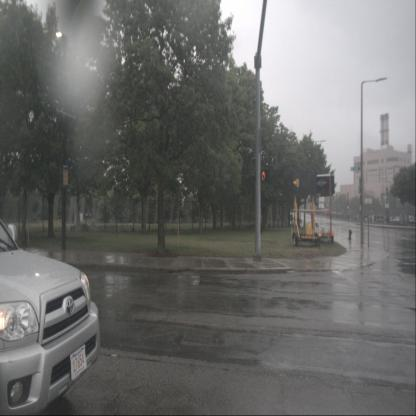vehicle-car: (0, 212, 101, 416)
